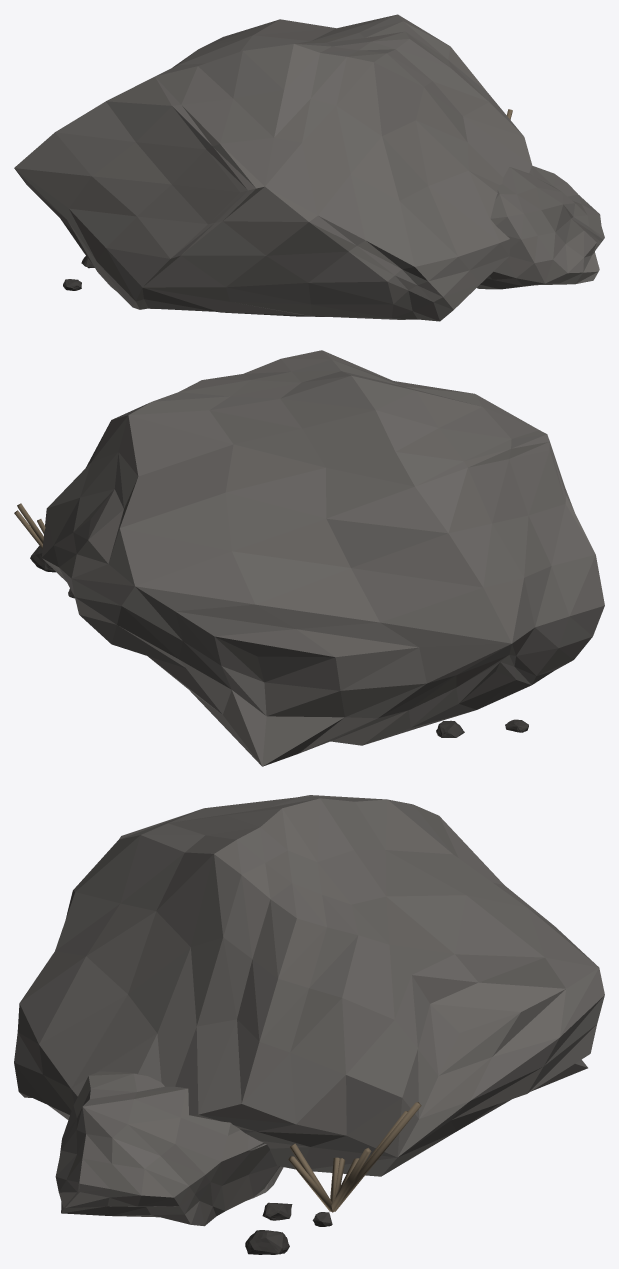
Rendered from cover_rock_6.glb.
3 renders of one model, top to bottom at view 1: azimuth 30°, elevation 25°; view 2: azimuth 150°, elevation 25°; view 3: azimuth 270°, elevation 25°, orthographic. The views are drawn at different scales.
Visible parts, largest first — view 1: rock_0, rock_1; view 2: rock_0; view 3: rock_0, rock_1, grit_1, weed_3.
Boxes of the visible parts, x1,y1,x2,y2 form: rock_0: (14, 14, 532, 321); rock_1: (477, 165, 604, 289); rock_0: (41, 350, 604, 766); rock_0: (14, 795, 604, 1176); rock_1: (55, 1071, 283, 1226); grit_1: (245, 1230, 289, 1254); weed_3: (335, 1102, 421, 1210).
Bounding box in the file's own units: 2.35 × 1.08 × 2.
